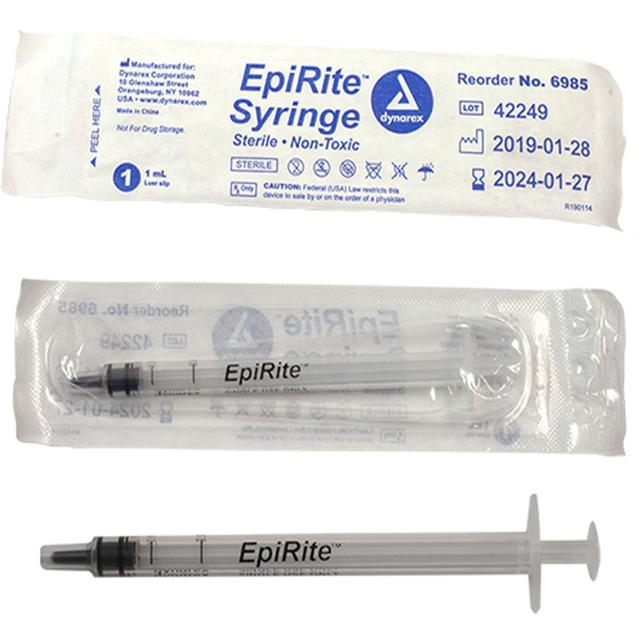B3: (2, 254, 632, 463), (21, 482, 617, 622)
